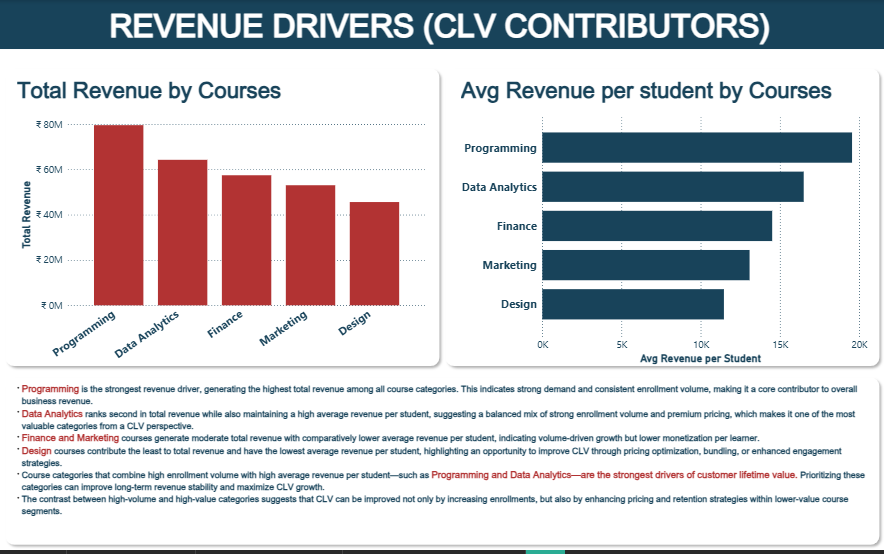

Layout of this report page (visuals, bound fields, positions):
{"tool":"powerbi","page":{"name":"Revenue Drivers","canvas":[1480,920],"ordinal":1},"visuals":[{"type":"shape","box":[736,106,744,516],"z":1000},{"type":"shape","box":[0,106,744,516],"z":2000},{"type":"shape","box":[0,622,1480,298],"z":2250},{"type":"textbox","box":[14,634,1446,268],"z":2500},{"type":"shape","box":[0,0,1480,82],"z":3000},{"type":"clusteredBarChart","fields":{"Category":["education_clv_dataset_20000_rows.Course_Category"],"Y":["education_clv_dataset_20000_rows.Avg Revenue per Student"]},"box":[766,182,690,432],"z":4000},{"type":"clusteredColumnChart","fields":{"Category":["education_clv_dataset_20000_rows.Course_Category"],"Y":["education_clv_dataset_20000_rows.Total Revenue"]},"box":[28,190,690,432],"z":5000},{"type":"textbox","box":[24,118,656,70],"z":6000},{"type":"textbox","box":[12,0,1448,82],"z":7000},{"type":"textbox","box":[766,118,656,70],"z":8000}]}

Visuals, with their boxes in screenshot pixels (x1, y1, x2, y2), scaled from the page's 1480x920 canvas onto the 884x554 screenshot:
shape: <bbox>440, 64, 883, 375</bbox>
shape: <bbox>0, 64, 444, 375</bbox>
shape: <bbox>0, 375, 883, 553</bbox>
textbox: <bbox>8, 382, 872, 543</bbox>
shape: <bbox>0, 0, 883, 49</bbox>
clusteredBarChart - education_clv_dataset_20000_rows.Course_Category x education_clv_dataset_20000_rows.Avg Revenue per Student: <bbox>458, 110, 870, 370</bbox>
clusteredColumnChart - education_clv_dataset_20000_rows.Course_Category x education_clv_dataset_20000_rows.Total Revenue: <bbox>17, 114, 429, 375</bbox>
textbox: <bbox>14, 71, 406, 113</bbox>
textbox: <bbox>7, 0, 872, 49</bbox>
textbox: <bbox>458, 71, 849, 113</bbox>
